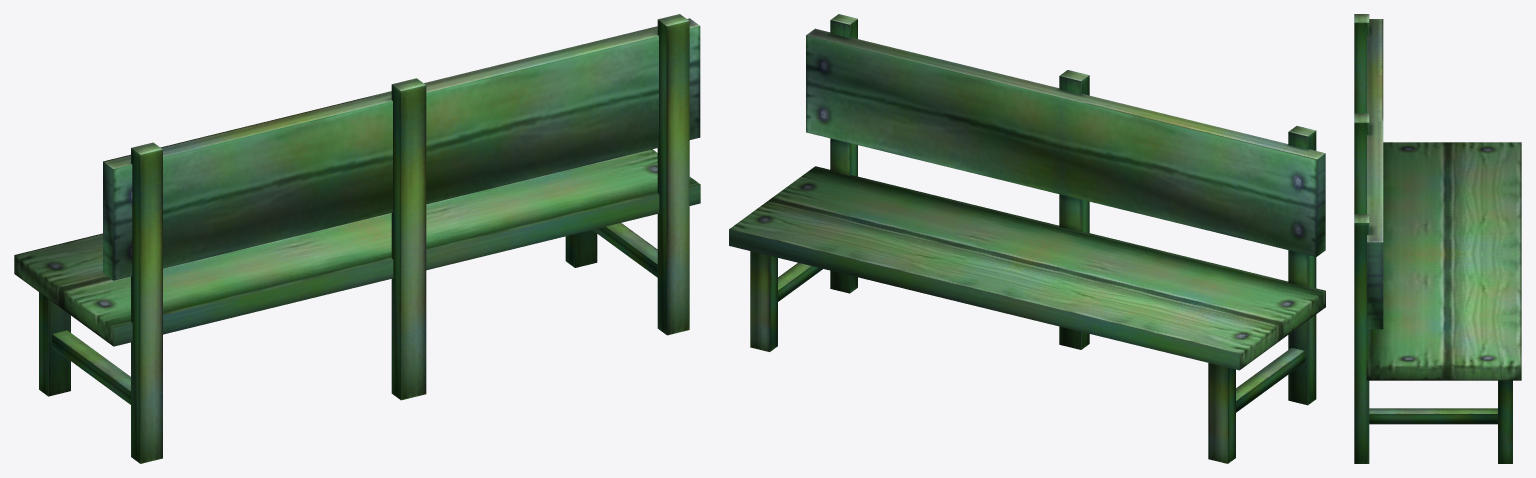
File: c_SWIchair05a.glb
3 views of the same model, side by side, from view 1: azimuth 30°, elevation 25°; view 2: azimuth 150°, elevation 25°; view 3: azimuth 270°, elevation 25° (orthographic). The views are drawn at different scales.
Parts seen in each view (by area): view 1: c_SWIchair05a; view 2: c_SWIchair05a; view 3: c_SWIchair05a.
Boxes of the visible parts, bbox=[...] form: c_SWIchair05a: bbox=[14, 14, 700, 463]; c_SWIchair05a: bbox=[729, 14, 1325, 463]; c_SWIchair05a: bbox=[1354, 14, 1521, 463].
Bounding box in the file's own units: 1.99 × 1 × 0.6289.
Materials: 1 (1 with a texture image).
